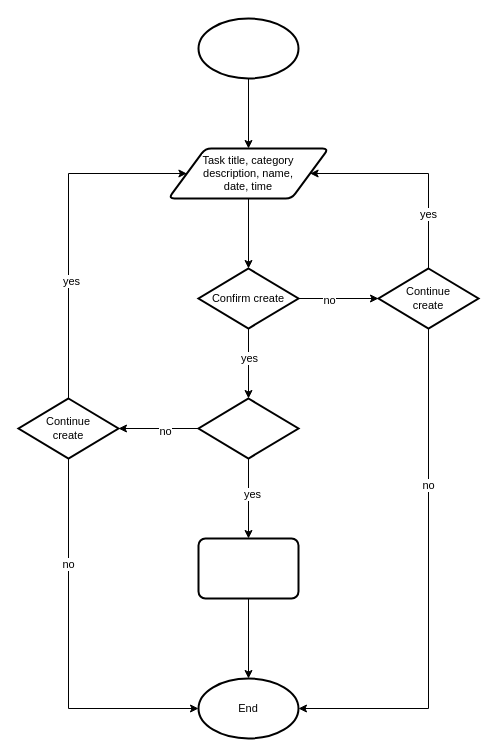
Some shapes in this 496 by 756 pixel diagram are drawn without their labels. The centre of each missing label's shape, as x and y in pixels:
"Create data" goes at point 248,568.
"Create task" goes at point 248,48.
"Fields Valid" goes at point 248,428.
